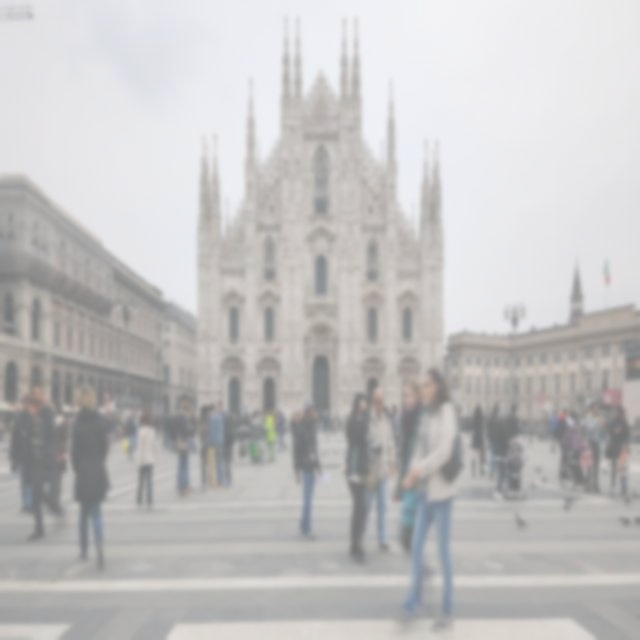pessoa: (396, 363, 466, 638), (67, 381, 112, 575), (354, 381, 396, 558), (394, 370, 427, 554), (22, 382, 56, 542), (344, 390, 372, 558), (292, 396, 324, 543), (226, 404, 304, 464), (8, 390, 36, 518), (519, 404, 584, 456), (47, 398, 70, 516), (134, 408, 158, 514), (172, 391, 195, 494), (100, 404, 140, 460), (608, 402, 630, 494), (584, 400, 605, 495), (491, 406, 511, 504), (0, 398, 23, 478), (174, 402, 192, 500), (467, 402, 488, 480), (216, 398, 234, 486), (201, 402, 218, 494), (383, 400, 403, 472), (208, 401, 224, 488), (313, 404, 351, 437), (153, 402, 177, 454), (196, 404, 210, 492), (486, 402, 500, 482), (456, 408, 489, 439), (616, 439, 632, 502), (504, 400, 522, 452), (186, 392, 198, 454), (64, 404, 76, 457), (363, 398, 372, 428)
